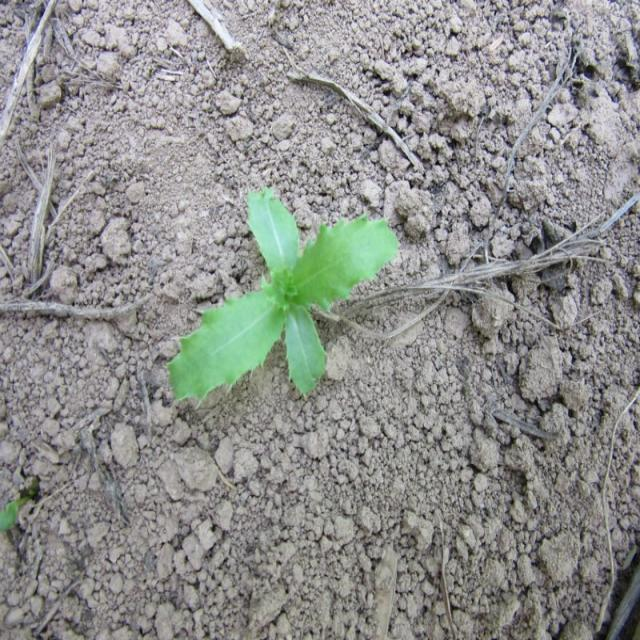field_thistle: (164, 190, 423, 421)
